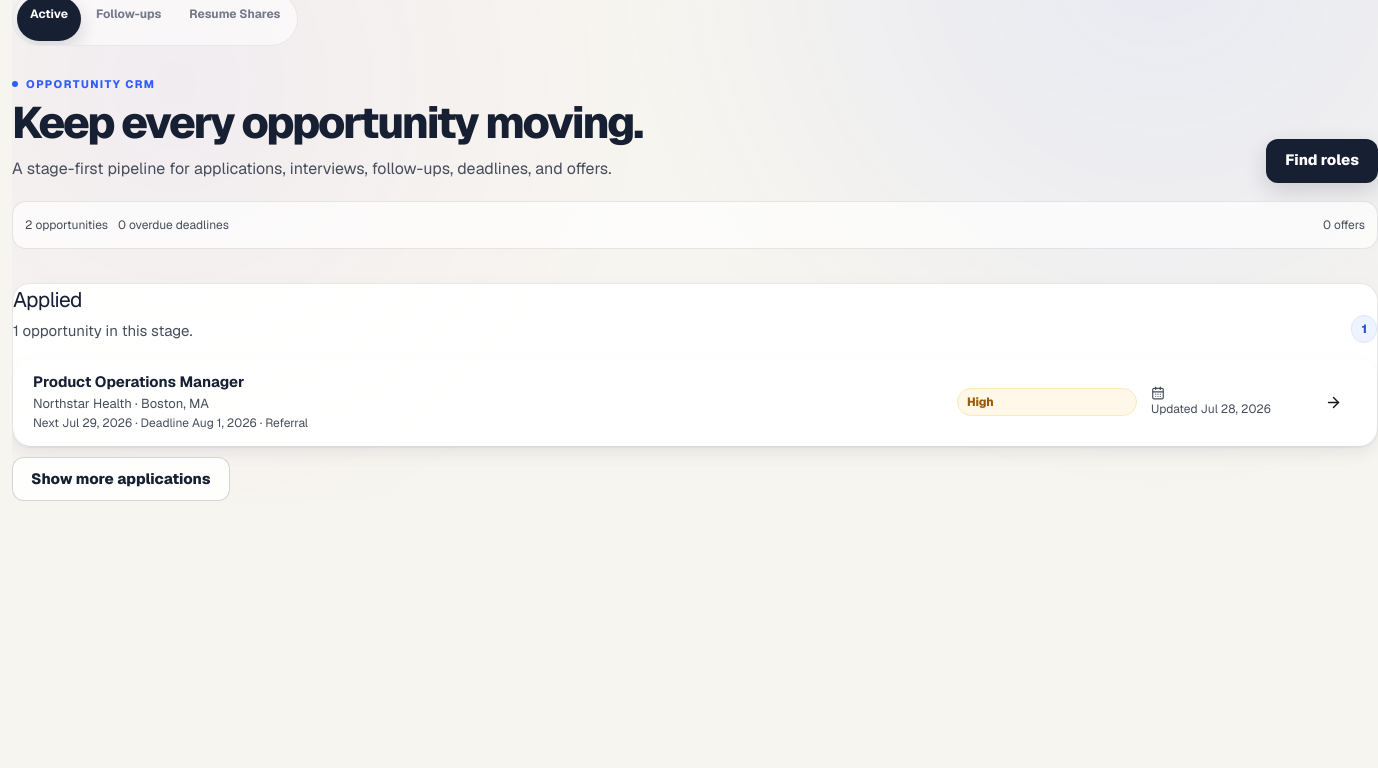
ApplicationsView › loads older opportunity-board pages using the returned cursor
What coordinates should you click on to do the following:
click the button "Show more applications"
I would click on:
 (121, 479)
Its box is [12,457,230,501].
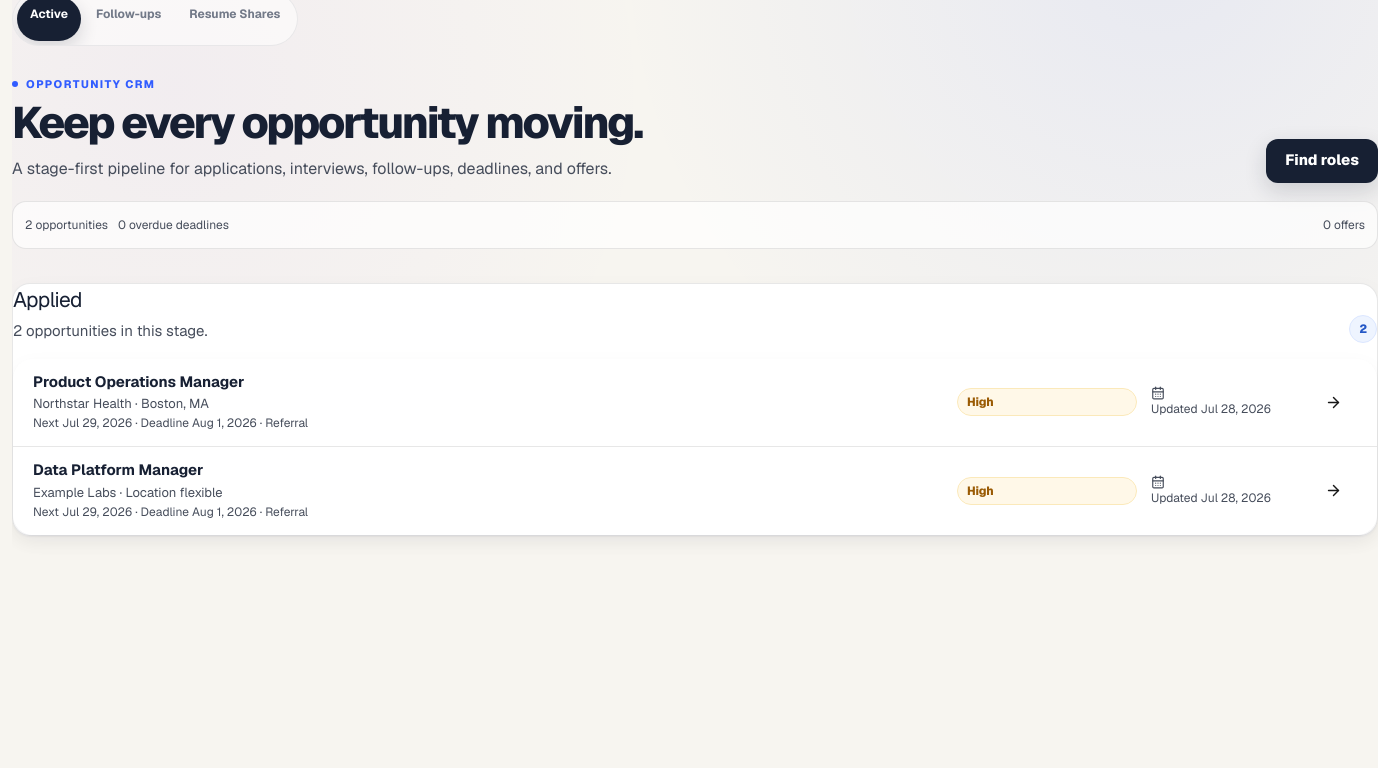
Check: the text "Data Platform Manager" is shown, box [33,460,203,479]
